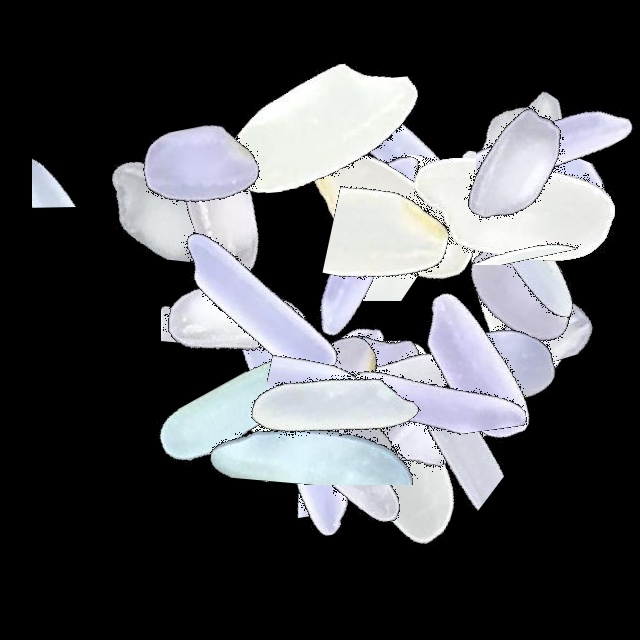Broken: (90, 49, 260, 299), (459, 127, 625, 377), (476, 66, 640, 316), (237, 308, 397, 558), (309, 279, 559, 437), (357, 313, 513, 563), (237, 155, 487, 301), (272, 269, 416, 519), (288, 391, 538, 533), (192, 343, 442, 485), (390, 229, 640, 370), (274, 174, 524, 314), (267, 264, 396, 514), (307, 250, 433, 500), (413, 113, 529, 363), (390, 137, 640, 246), (342, 56, 448, 306), (114, 36, 210, 286), (161, 172, 255, 422), (366, 175, 616, 265), (32, 37, 121, 287), (390, 177, 640, 259), (299, 300, 381, 550), (343, 345, 424, 595)
Full: (265, 336, 515, 586), (193, 278, 443, 528), (390, 159, 640, 409), (288, 37, 538, 287), (172, 306, 422, 556), (241, 117, 491, 367), (209, 271, 459, 521), (390, 109, 640, 359), (239, 251, 489, 501), (269, 256, 519, 506), (220, 317, 470, 567), (379, 242, 629, 492), (390, 32, 640, 282), (217, 346, 467, 596), (268, 90, 518, 340), (108, 197, 358, 447), (109, 285, 359, 535), (96, 83, 346, 333), (203, 265, 453, 515), (390, 85, 640, 335), (353, 243, 603, 493), (132, 182, 382, 432), (197, 0, 447, 250), (76, 40, 326, 290), (209, 284, 459, 534), (390, 42, 640, 292)
